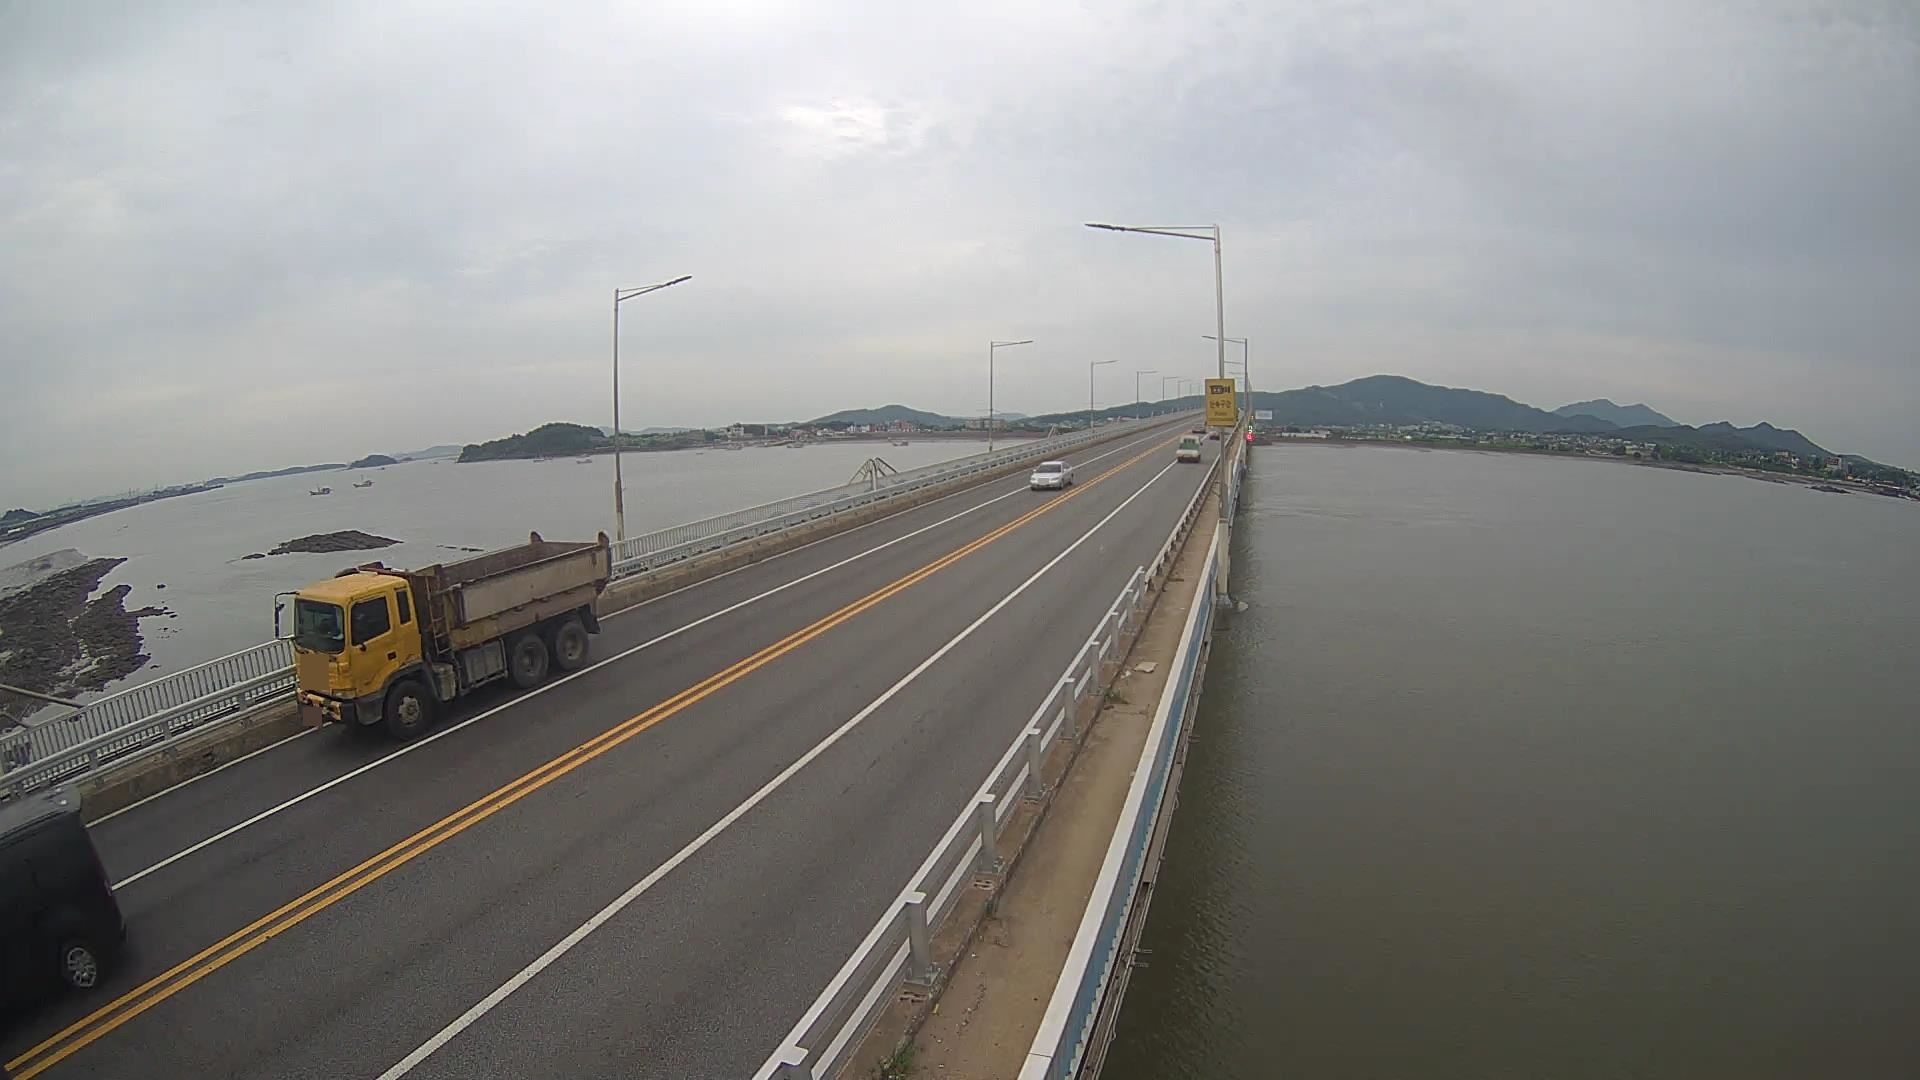정상차량: (274, 530, 613, 741)
